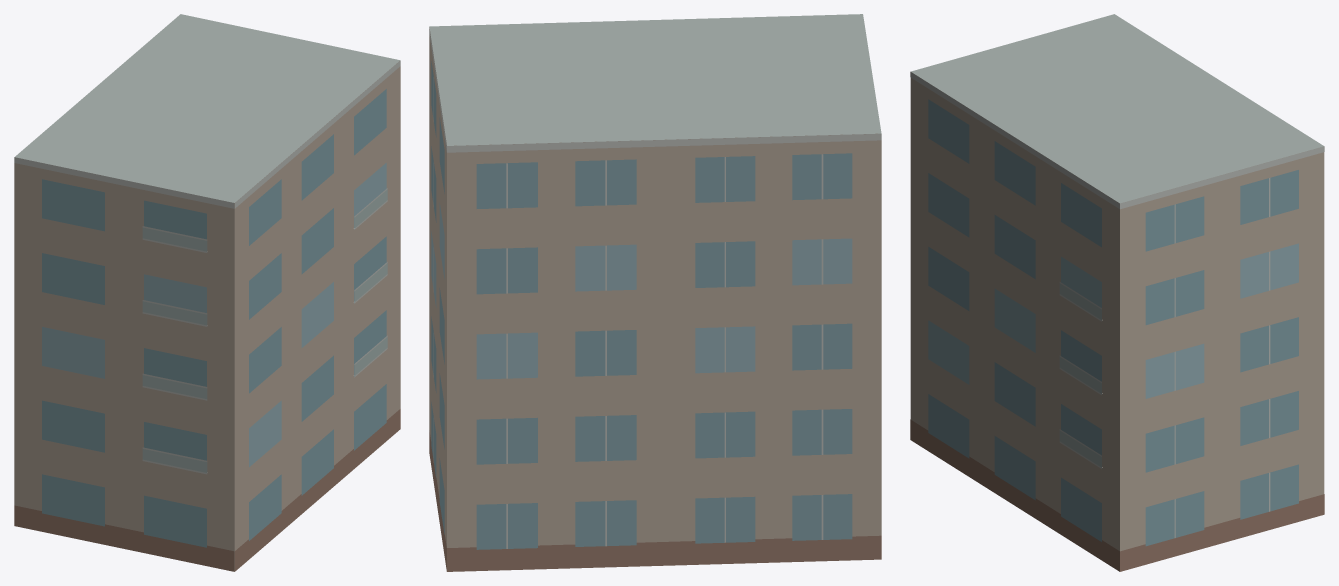
File: survey-upis-33017443.glb
3 views of the same model, side by side, from view 1: azimuth 30°, elevation 25°; view 2: azimuth 150°, elevation 25°; view 3: azimuth 270°, elevation 25° (orthographic). The views are drawn at different scales.
Parts seen in each view (by area): view 1: survey-upis-33017443.tmp; view 2: survey-upis-33017443.tmp; view 3: survey-upis-33017443.tmp.
Part boxes in pixels (box(x1,y1,x2,y2)): survey-upis-33017443.tmp: box(14, 14, 400, 571); survey-upis-33017443.tmp: box(429, 14, 881, 571); survey-upis-33017443.tmp: box(910, 14, 1324, 571).
Size of the model in its own units: 17 by 15.4 by 15.69.
